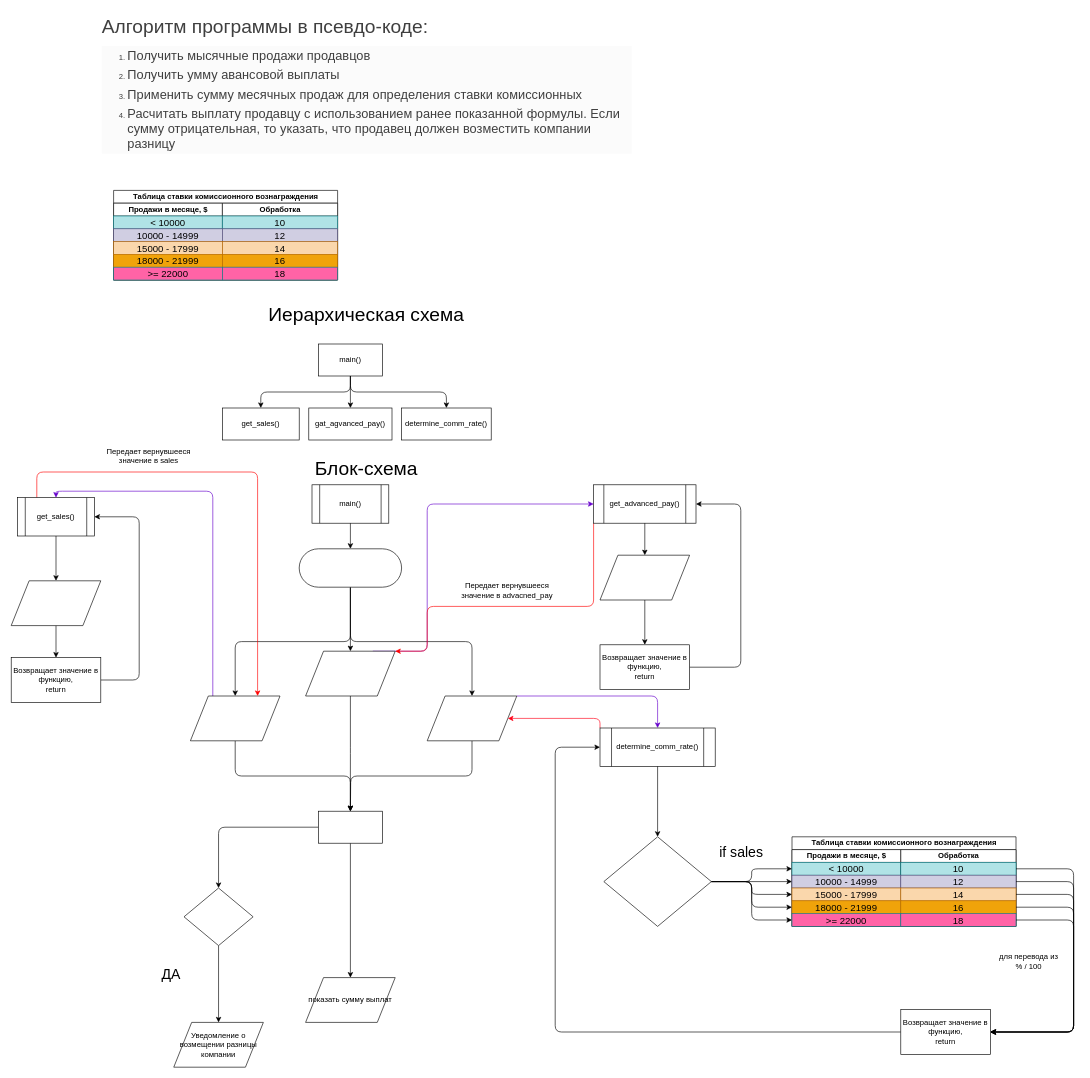
Some shapes in this 1090 by 1078 pixel diagram are drawn without their labels. Here are the shapes that lost their labels. From the top down, the centre of each, then its label:
At [350,567]: "Начало".
At [644,577]: "Получение сумм авансовой платы, advanced".
At [56,603]: "Получение сумм продаж mountly_sales".
At [350,673]: "Получение сумм авансовой оплаты advanced_pay".
At [235,718]: "Получение сумм продаж sales".
At [472,718]: "Определние ставки комиссионых comm_rate".
At [350,827]: "Расчет оплаты pay".
At [657,881]: "определние % ставки комиссионных по таблице".
At [218,916]: "pay < 0?".
